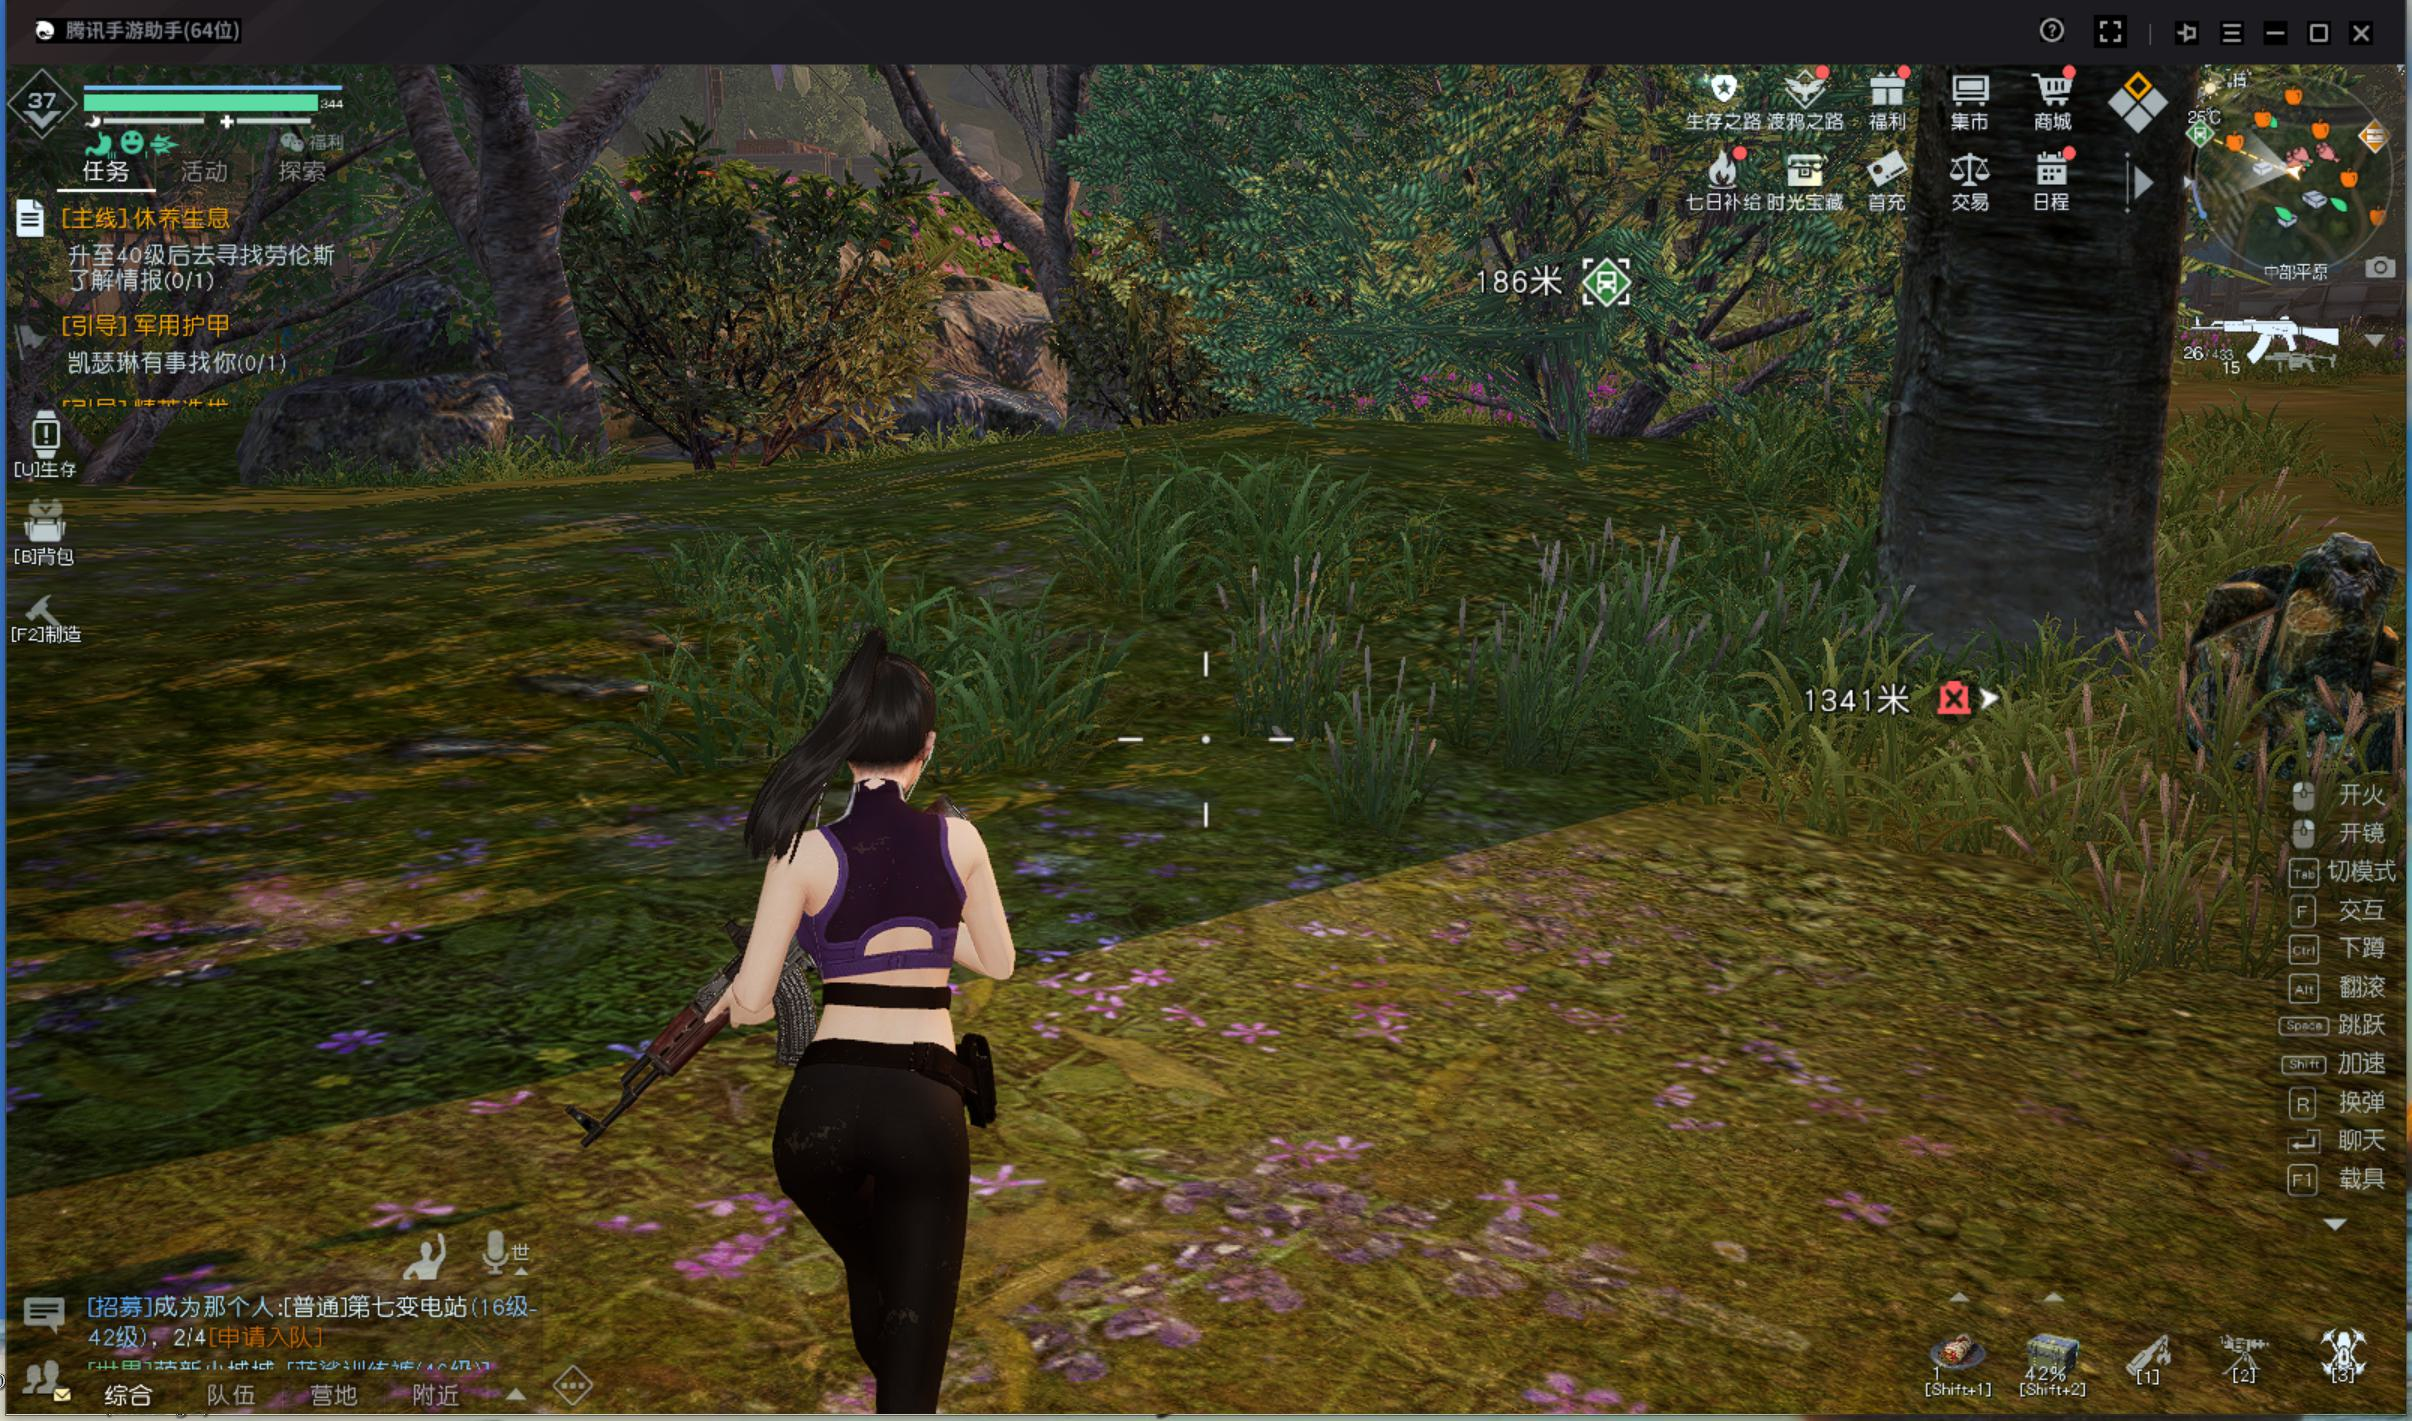stone: (2179, 514, 2400, 771)
tree: (441, 176, 611, 491), (998, 181, 1155, 458)
